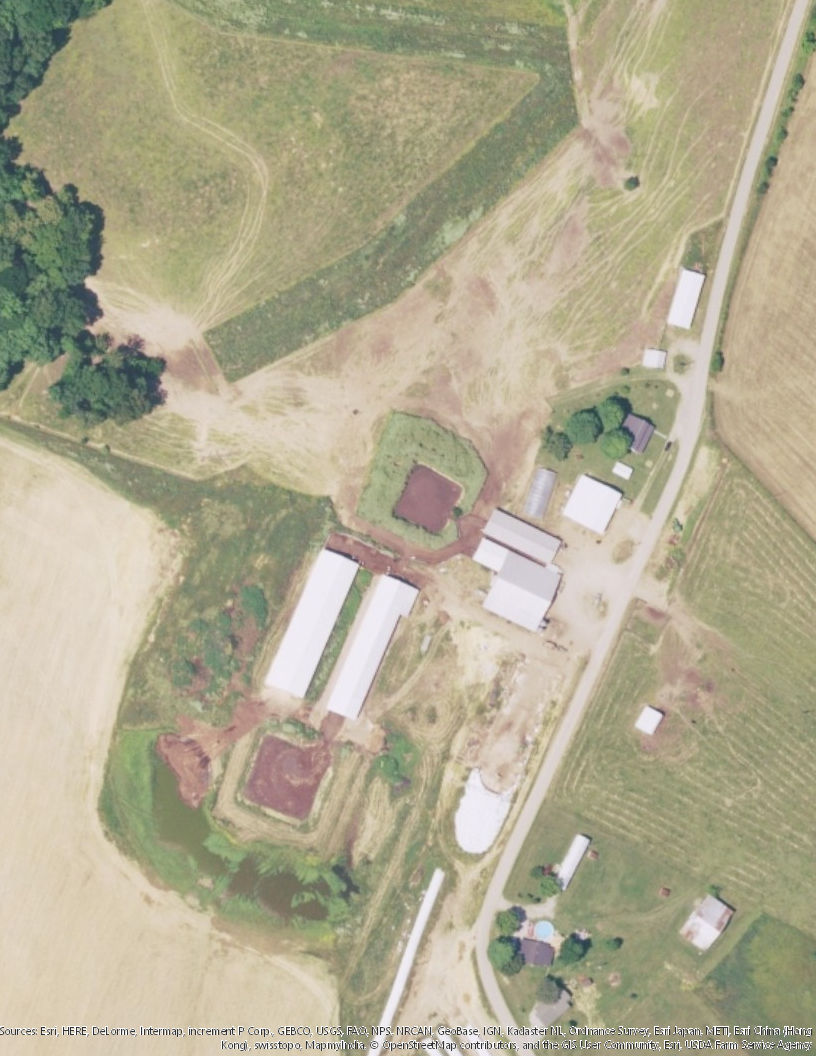cafo: (249, 524, 361, 705), (469, 503, 573, 644), (331, 564, 419, 720), (562, 471, 628, 536)
